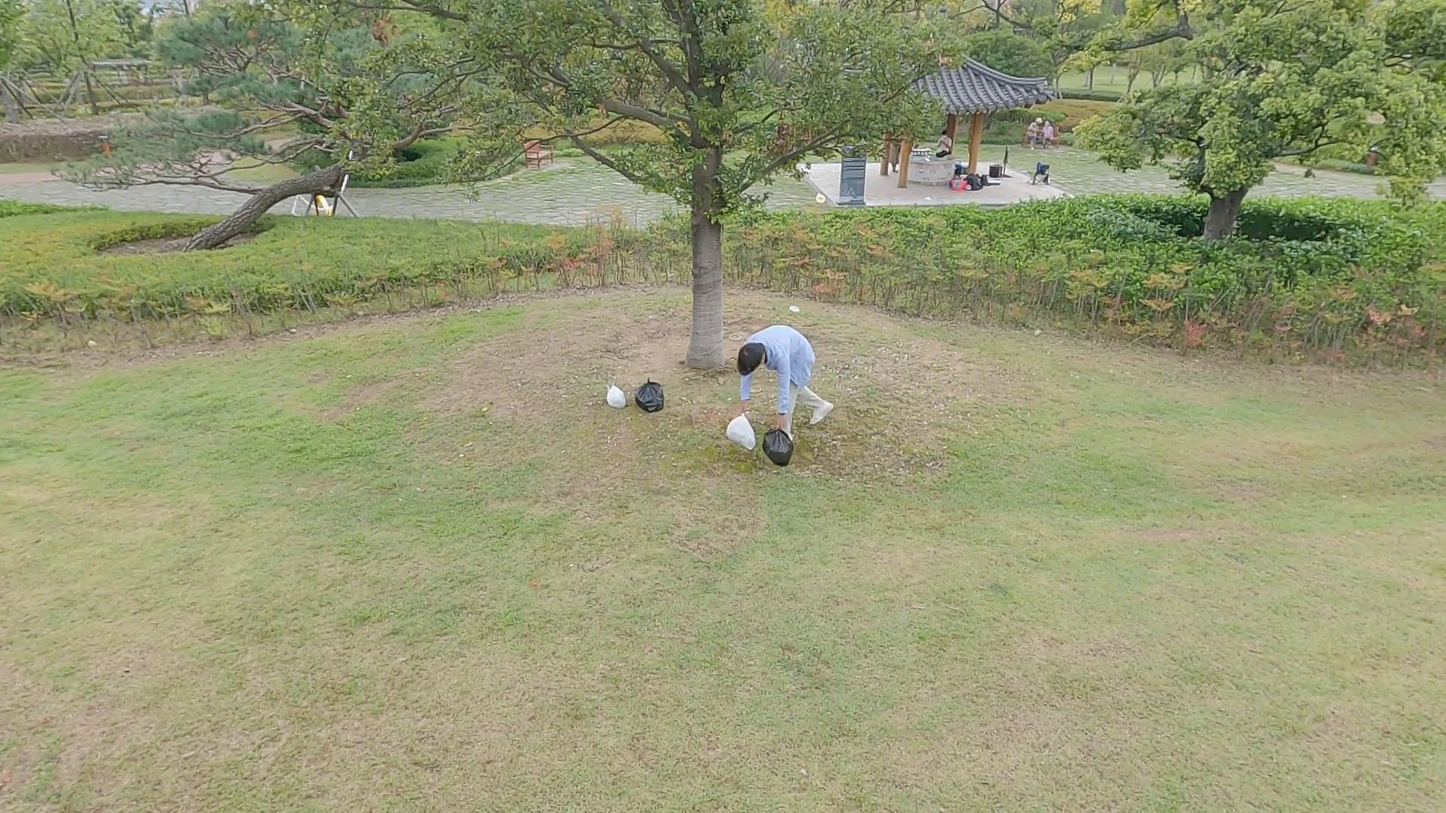person: (734, 325, 835, 436)
trash: (761, 428, 795, 469), (725, 411, 757, 454), (633, 378, 668, 414), (603, 382, 628, 412)
